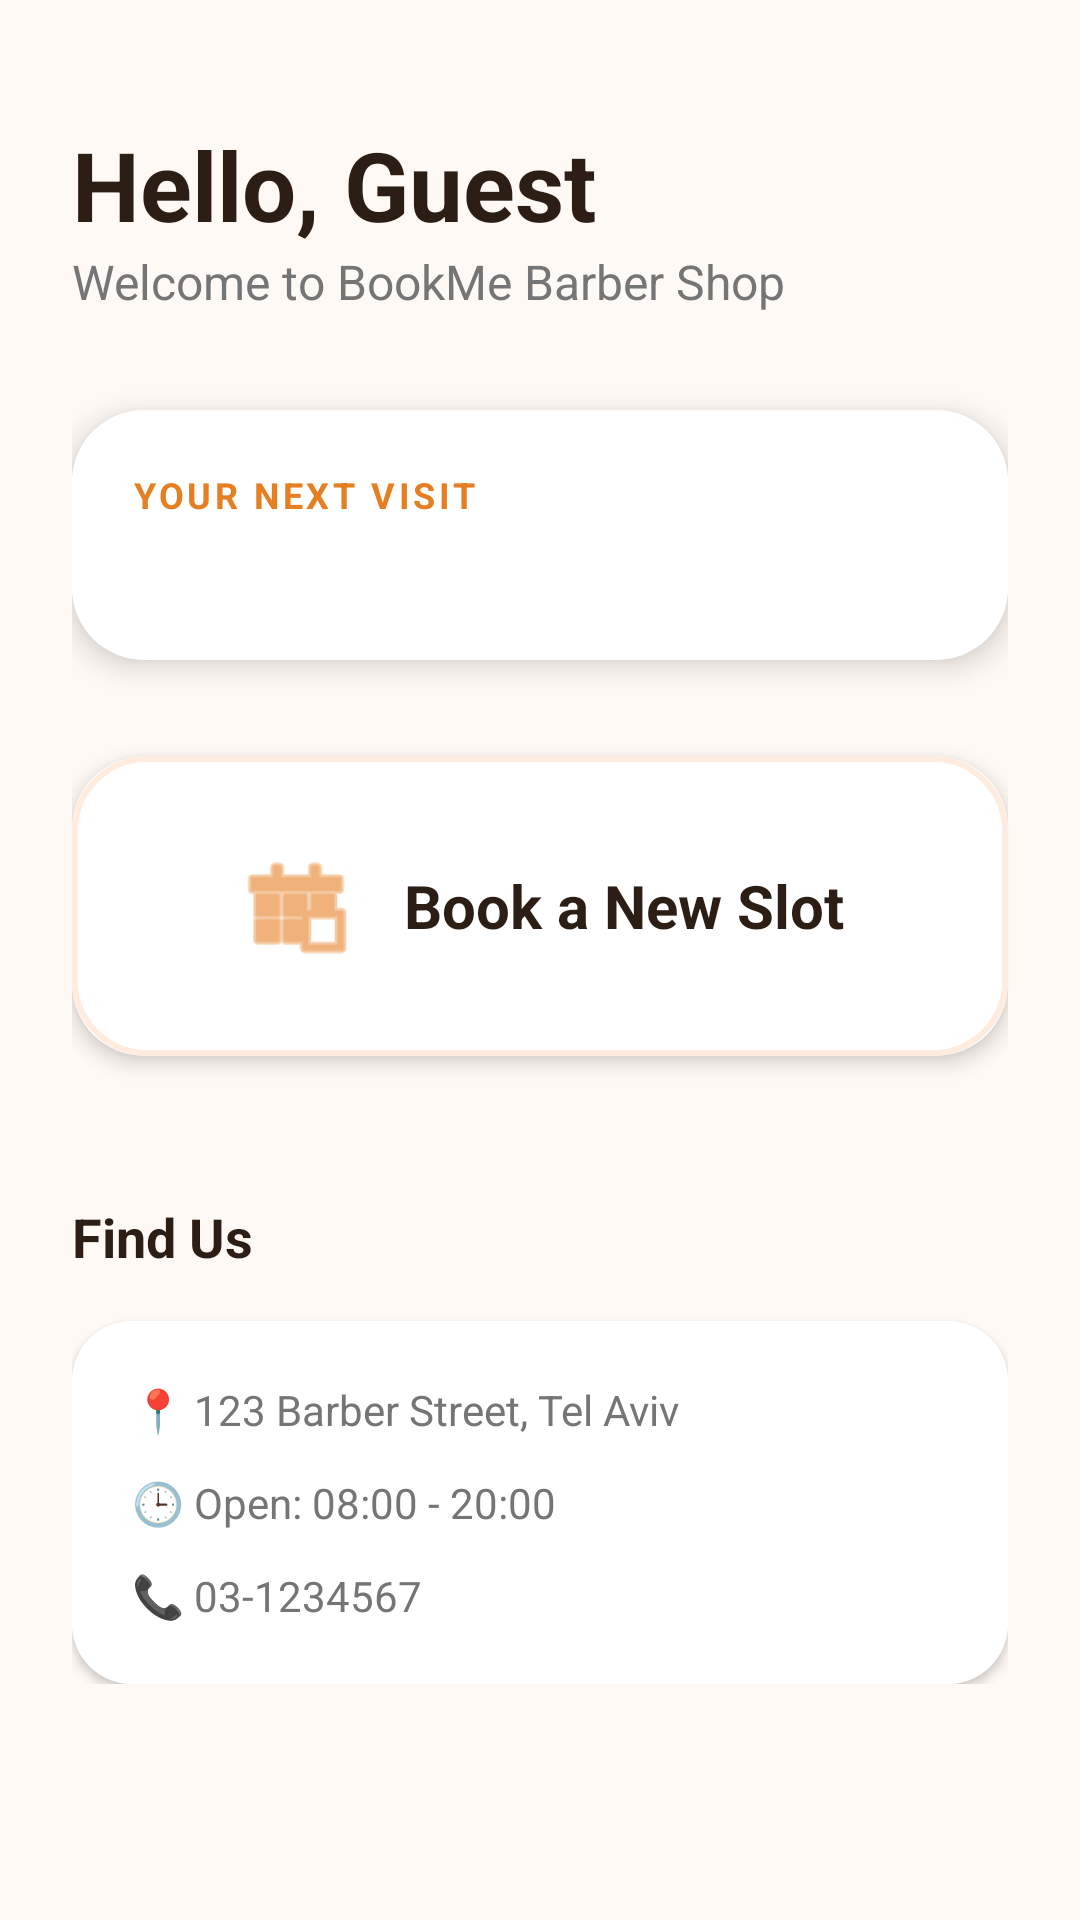

Icon click points for this 1080px×1920px phone screenshot, format (x=x, y=y):
today: (x=297, y=908)
